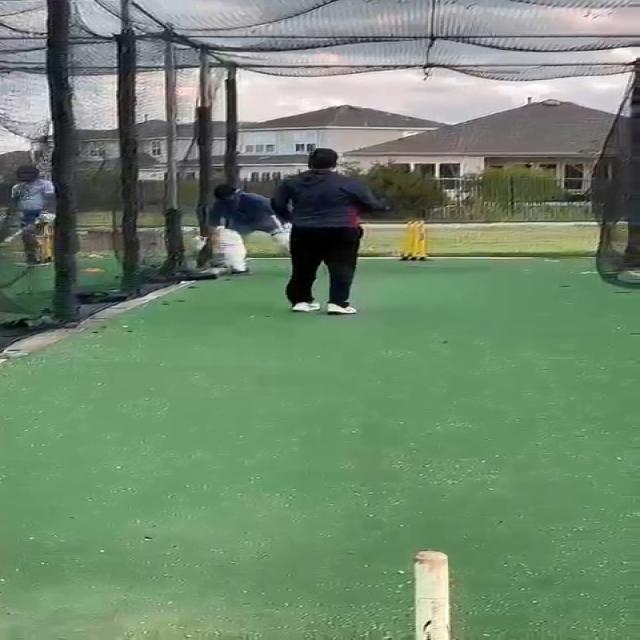batsman: (202, 184, 294, 277)
